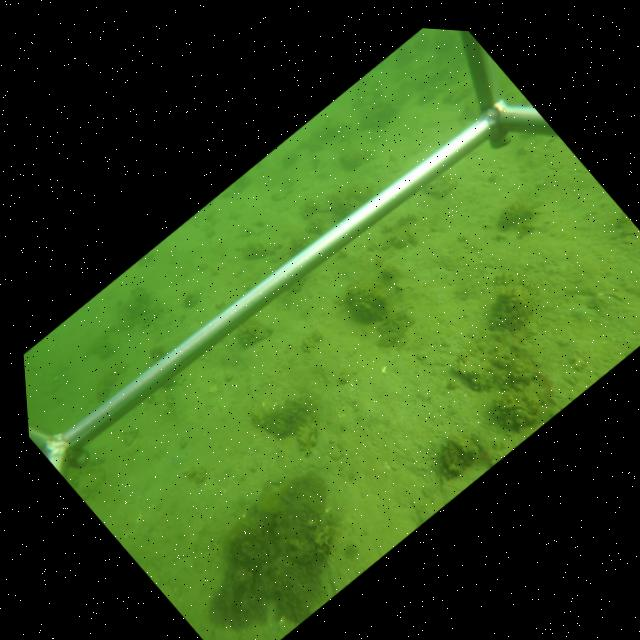Oyster-Closed: (496, 397, 537, 422)
